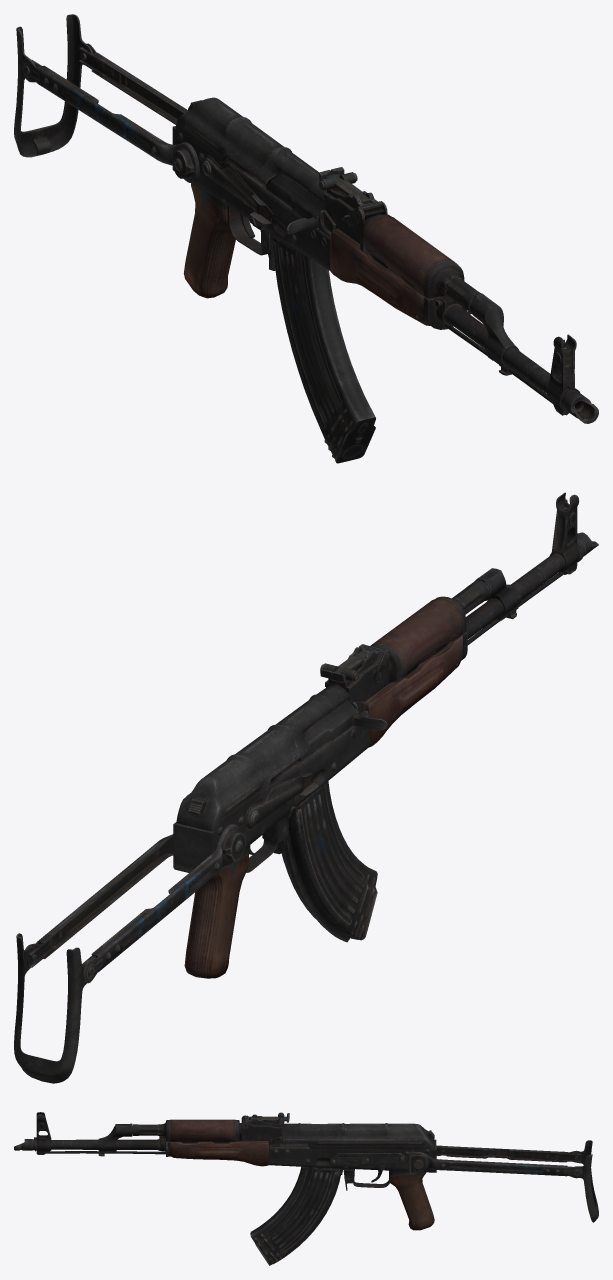
The model's file is akms.gltf.
The picture shows the model from 3 angles, top to bottom: view 1: azimuth 30°, elevation 25°; view 2: azimuth 150°, elevation 25°; view 3: azimuth 270°, elevation 25°; orthographic projection. The views are drawn at different scales.
Visible parts, largest first — view 1: body; view 2: body; view 3: body.
Boxes of the visible parts, <box> form: body: <box>14,14,598,463</box>; body: <box>14,492,598,1083</box>; body: <box>14,1112,598,1265</box>.
Size of the model in its own units: 0.0785 by 0.2595 by 0.9133.
3 materials, 3 textured.
